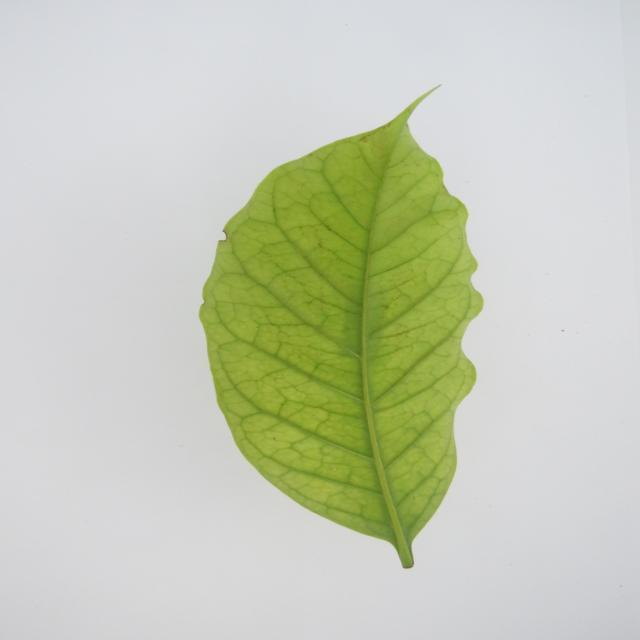DeficienciaNutricional-Calcio: (200, 90, 482, 568)
